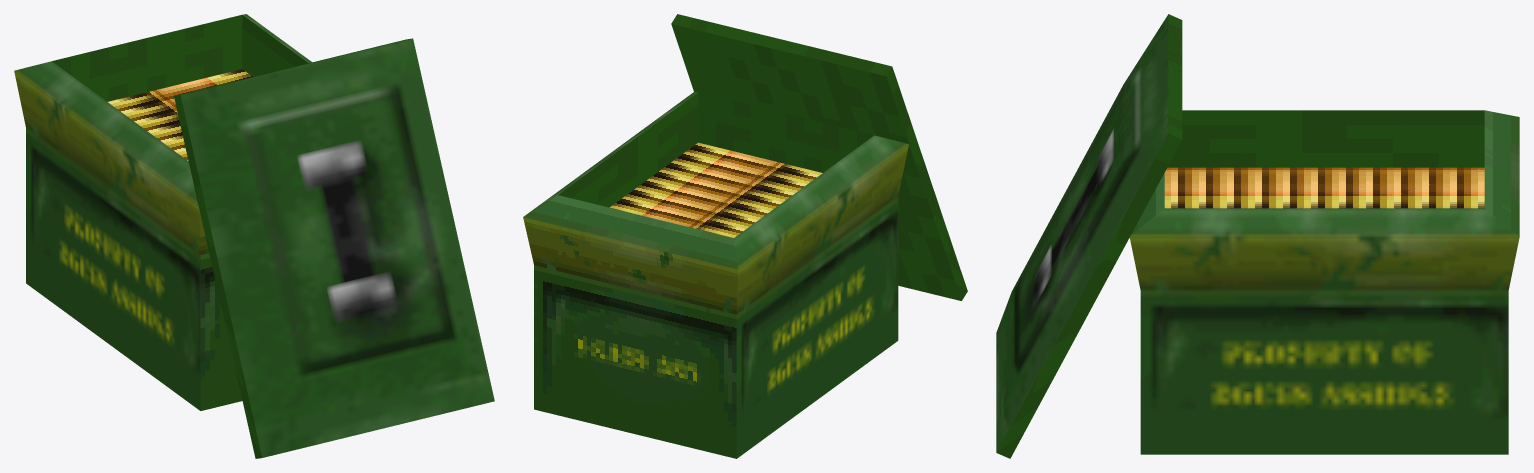
The model's file is chainammo.glb.
3 views of the same model, side by side, from view 1: azimuth 30°, elevation 25°; view 2: azimuth 150°, elevation 25°; view 3: azimuth 270°, elevation 25° (orthographic). The views are drawn at different scales.
Parts seen in each view (by area): view 1: chainammo; view 2: chainammo; view 3: chainammo.
Boxes of the visible parts, x1,y1,x2,y2 form: chainammo: (14,14,494,458); chainammo: (523,14,967,458); chainammo: (996,14,1519,458).
Size of the model in its own units: 14.61 by 18.53 by 27.02.
Materials: 5 (5 with a texture image).
